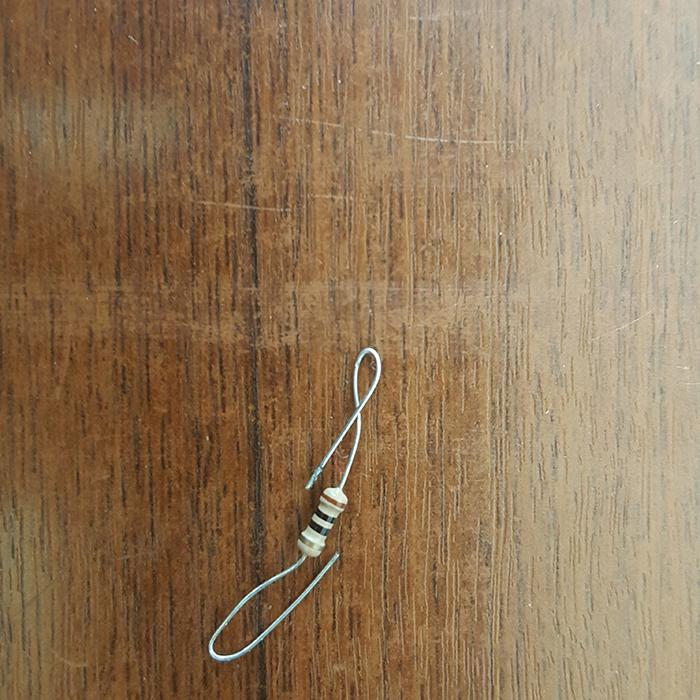resistor: (297, 484, 346, 557)
